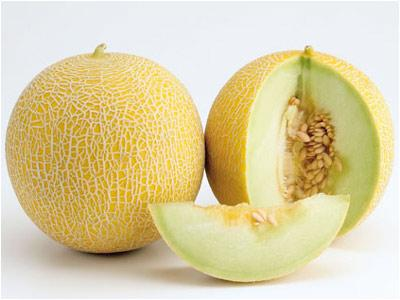Melon: (6, 50, 202, 258)
